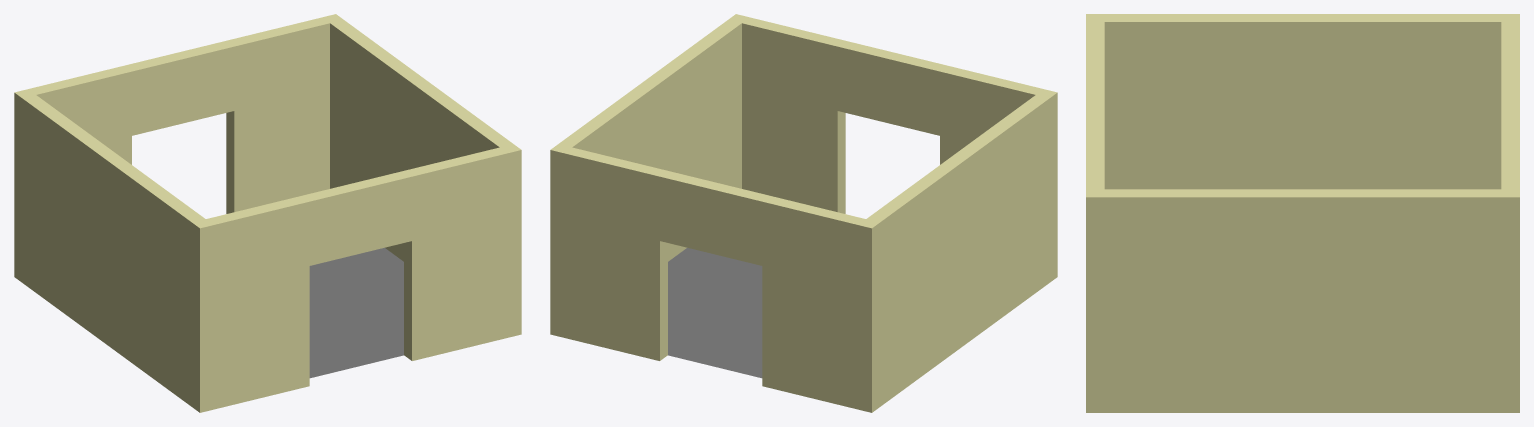
The model's file is SML and H Rooms 2 _Small_Room.fbx.
3 renders of one model, left to right at view 1: azimuth 30°, elevation 25°; view 2: azimuth 150°, elevation 25°; view 3: azimuth 270°, elevation 25°, orthographic. The views are drawn at different scales.
Parts seen in each view (by area): view 1: Floor(15x15); view 2: Floor(15x15); view 3: Floor(15x15).
Part boxes in pixels (bbox=[...]): Floor(15x15): bbox=[14, 14, 521, 412]; Floor(15x15): bbox=[550, 14, 1057, 412]; Floor(15x15): bbox=[1086, 14, 1519, 412].
Bounding box in the file's own units: 1641 × 900 × 1641.
